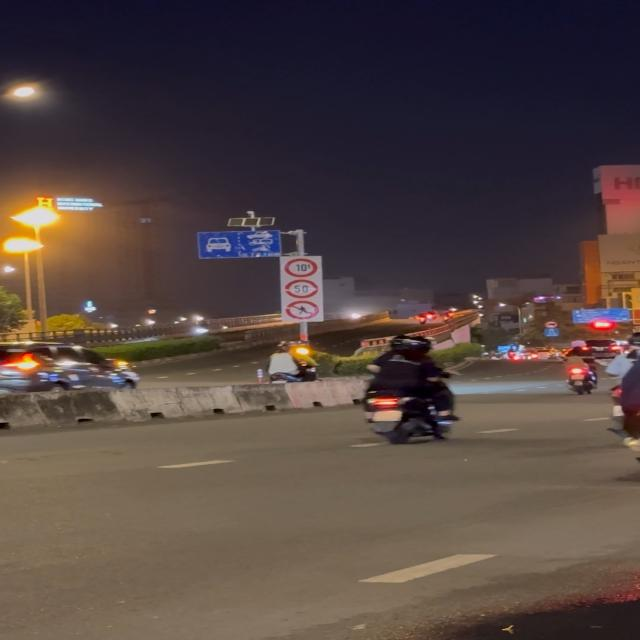Bien bao cam nguoi di bo: (285, 300, 321, 320)
Bien bao toc do toi da cho phep: (283, 278, 320, 300)
